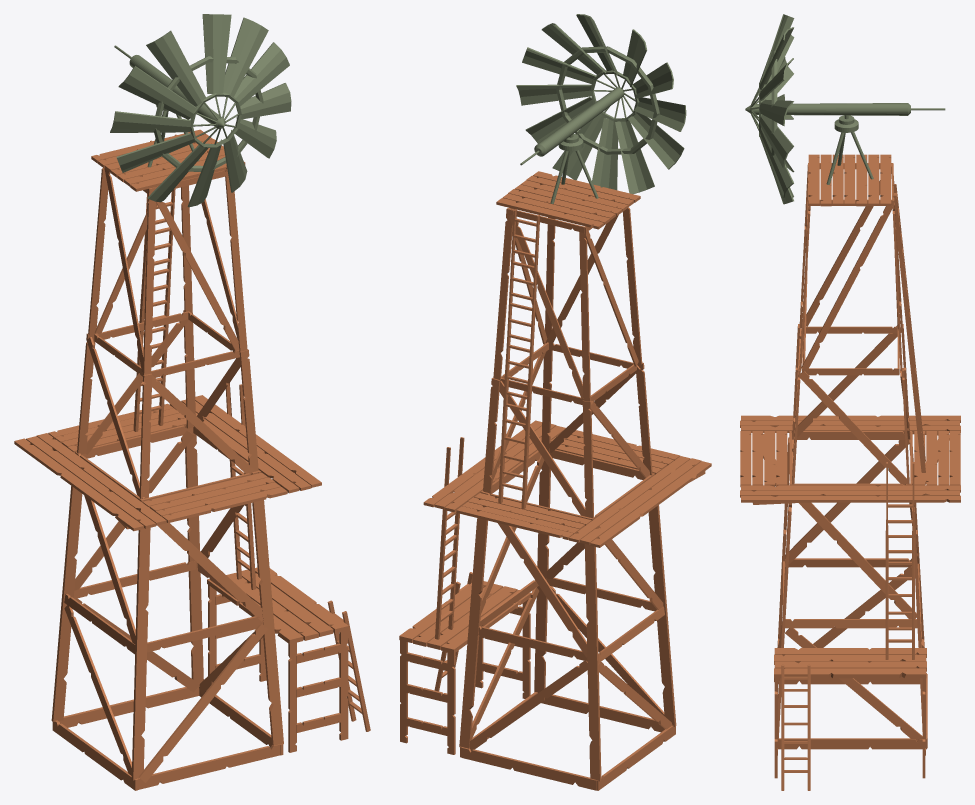
The model's file is oldwindmill.fbx.
The picture shows the model from 3 angles, left to right: view 1: azimuth 30°, elevation 25°; view 2: azimuth 150°, elevation 25°; view 3: azimuth 270°, elevation 25°; orthographic projection. The views are drawn at different scales.
Parts seen in each view (by area): view 1: oldwindmill, oldwindmillpropeller; view 2: oldwindmill, oldwindmillpropeller; view 3: oldwindmill, oldwindmillpropeller.
Boxes of the visible parts, x1=… form: oldwindmill: x1=14, y1=45, x2=370, y2=790; oldwindmillpropeller: x1=110, y1=14, x2=291, y2=207; oldwindmill: x1=399, y1=87, x2=711, y2=790; oldwindmillpropeller: x1=516, y1=14, x2=686, y2=193; oldwindmill: x1=740, y1=103, x2=960, y2=790; oldwindmillpropeller: x1=751, y1=14, x2=794, y2=204.
Bounding box in the file's own units: 558 × 1547 × 447.
